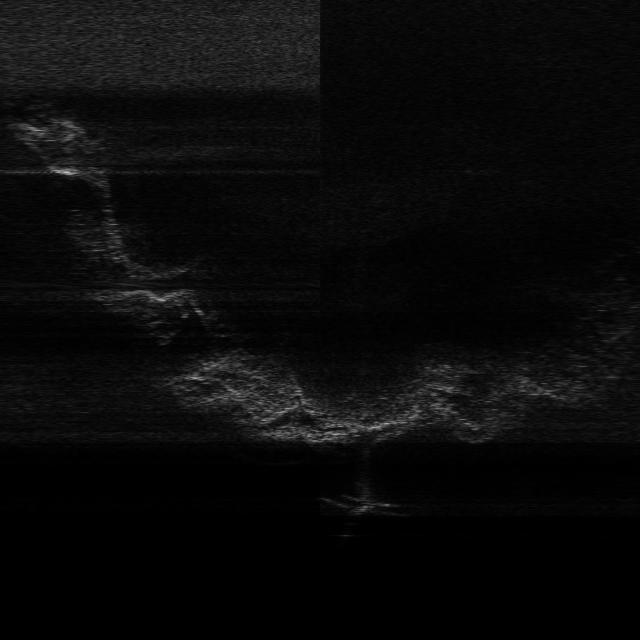plane: (316, 491, 406, 519)
